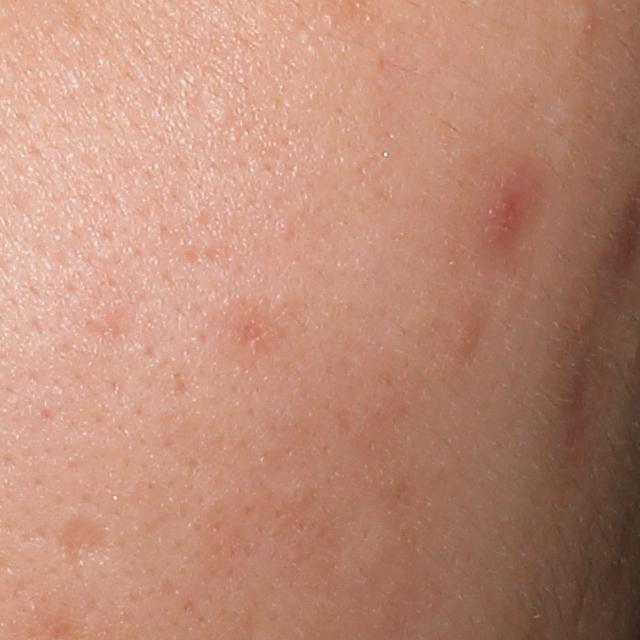atrophic_scar: (562, 344, 618, 451), (57, 508, 116, 574)
comedo: (569, 4, 601, 46)
papule: (467, 176, 520, 243)
